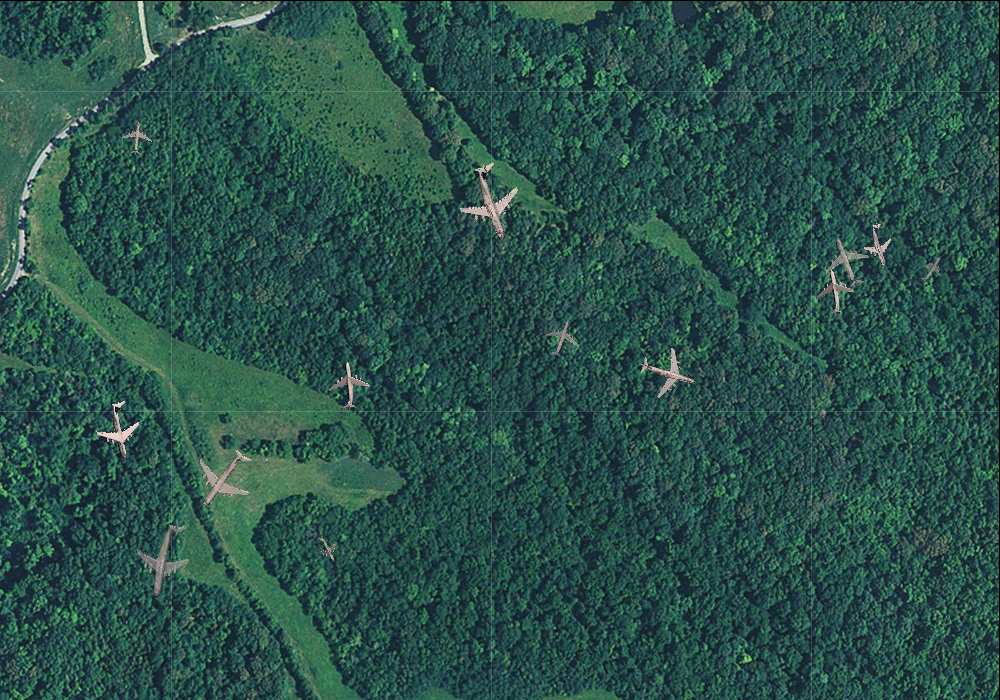plane: (445, 153, 539, 250), (177, 433, 269, 526), (126, 517, 204, 603), (633, 339, 703, 407), (88, 396, 152, 464), (815, 229, 879, 294), (809, 266, 859, 318), (323, 360, 373, 411), (856, 218, 904, 271), (538, 315, 584, 361), (912, 249, 950, 288), (308, 530, 344, 567), (119, 119, 153, 155)
